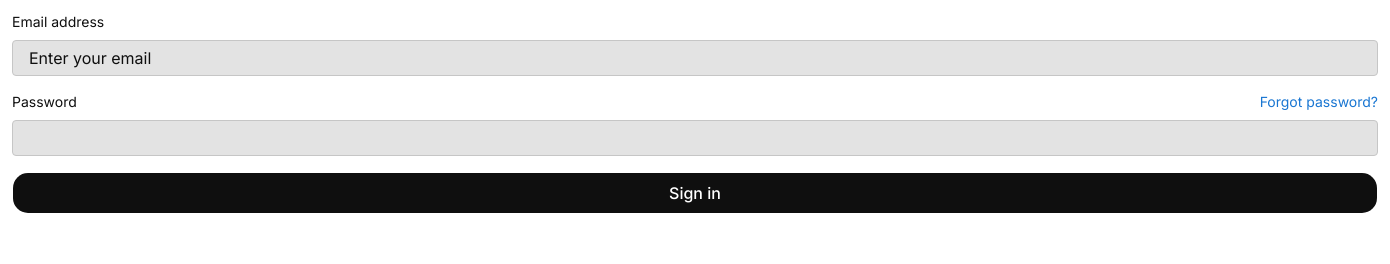
Scenario: <LoginForm /> wiring › maps a 401 to a form-level invalid-credentials alert
The image size is (1390, 264).
Type "alice@example.com" into the field labelled "Email address" at (695, 58), box x1=12 y1=40 x2=1378 y2=76
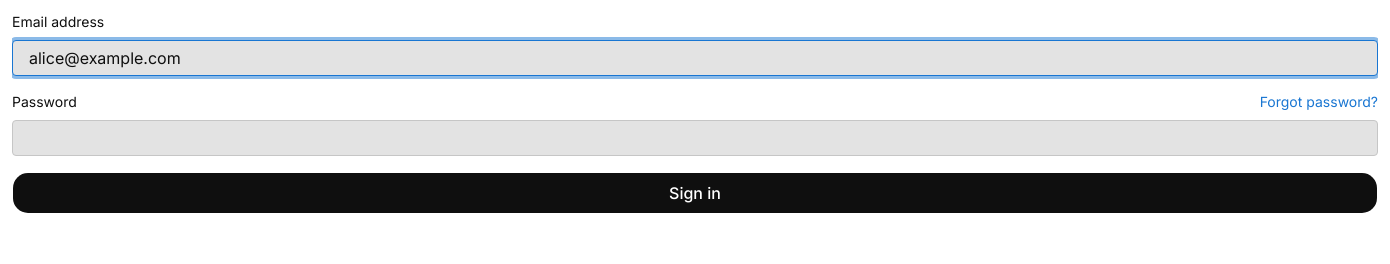
Type "secret123" into the password field labelled "Password" at (695, 138), box x1=12 y1=120 x2=1378 y2=156
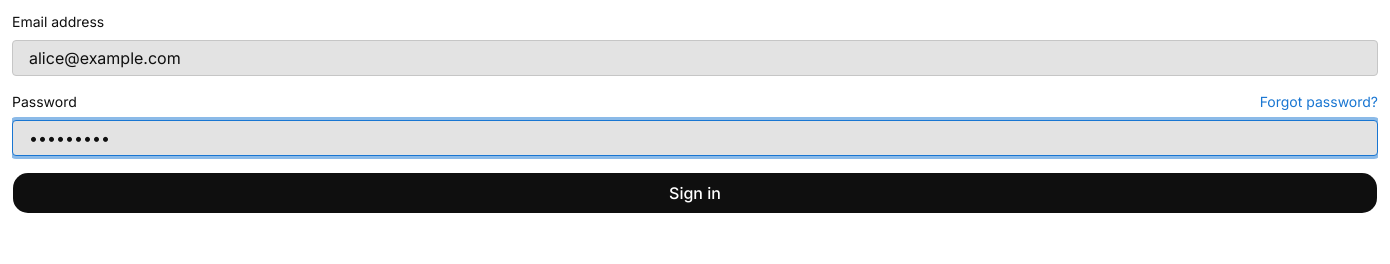
Click the button "Sign in" at (695, 193), box x1=12 y1=172 x2=1378 y2=214
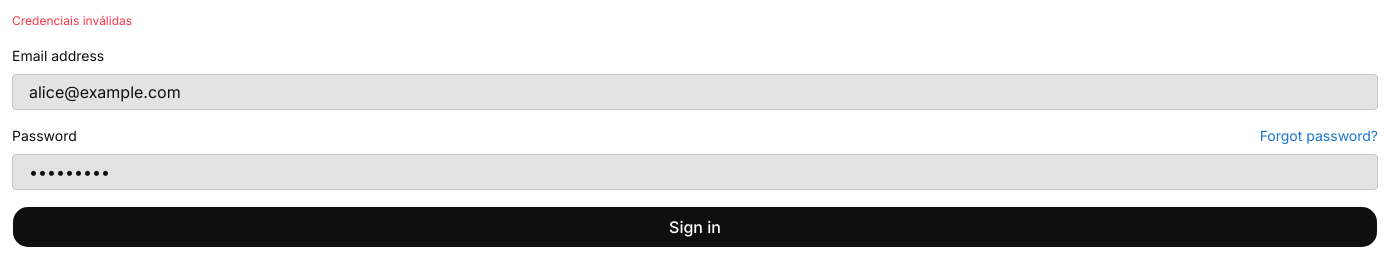
Expected: the message reads "Credenciais inválidas", x1=12 y1=13 x2=132 y2=28
